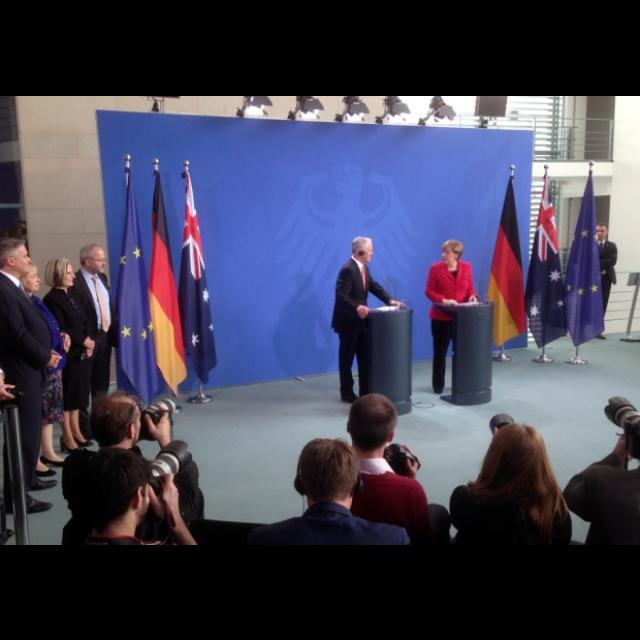head: (85, 444, 153, 528), (297, 438, 358, 502), (346, 392, 400, 451), (92, 391, 144, 445), (496, 422, 546, 476), (1, 238, 34, 274), (16, 260, 44, 294), (80, 244, 108, 276), (49, 257, 77, 287), (350, 235, 376, 263), (442, 240, 464, 264), (596, 223, 608, 241)
person: (0, 235, 66, 515), (8, 257, 74, 477), (330, 233, 410, 404), (61, 242, 123, 440), (40, 255, 98, 455), (423, 237, 483, 395), (588, 220, 620, 340)
